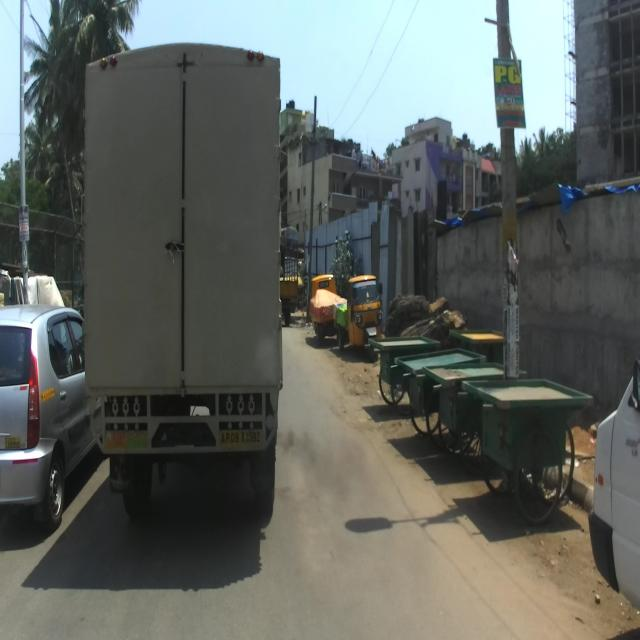Car_TATA: (0, 306, 96, 533)
autorickshaw: (332, 274, 382, 358), (308, 272, 342, 345)
truck: (79, 42, 283, 520)
